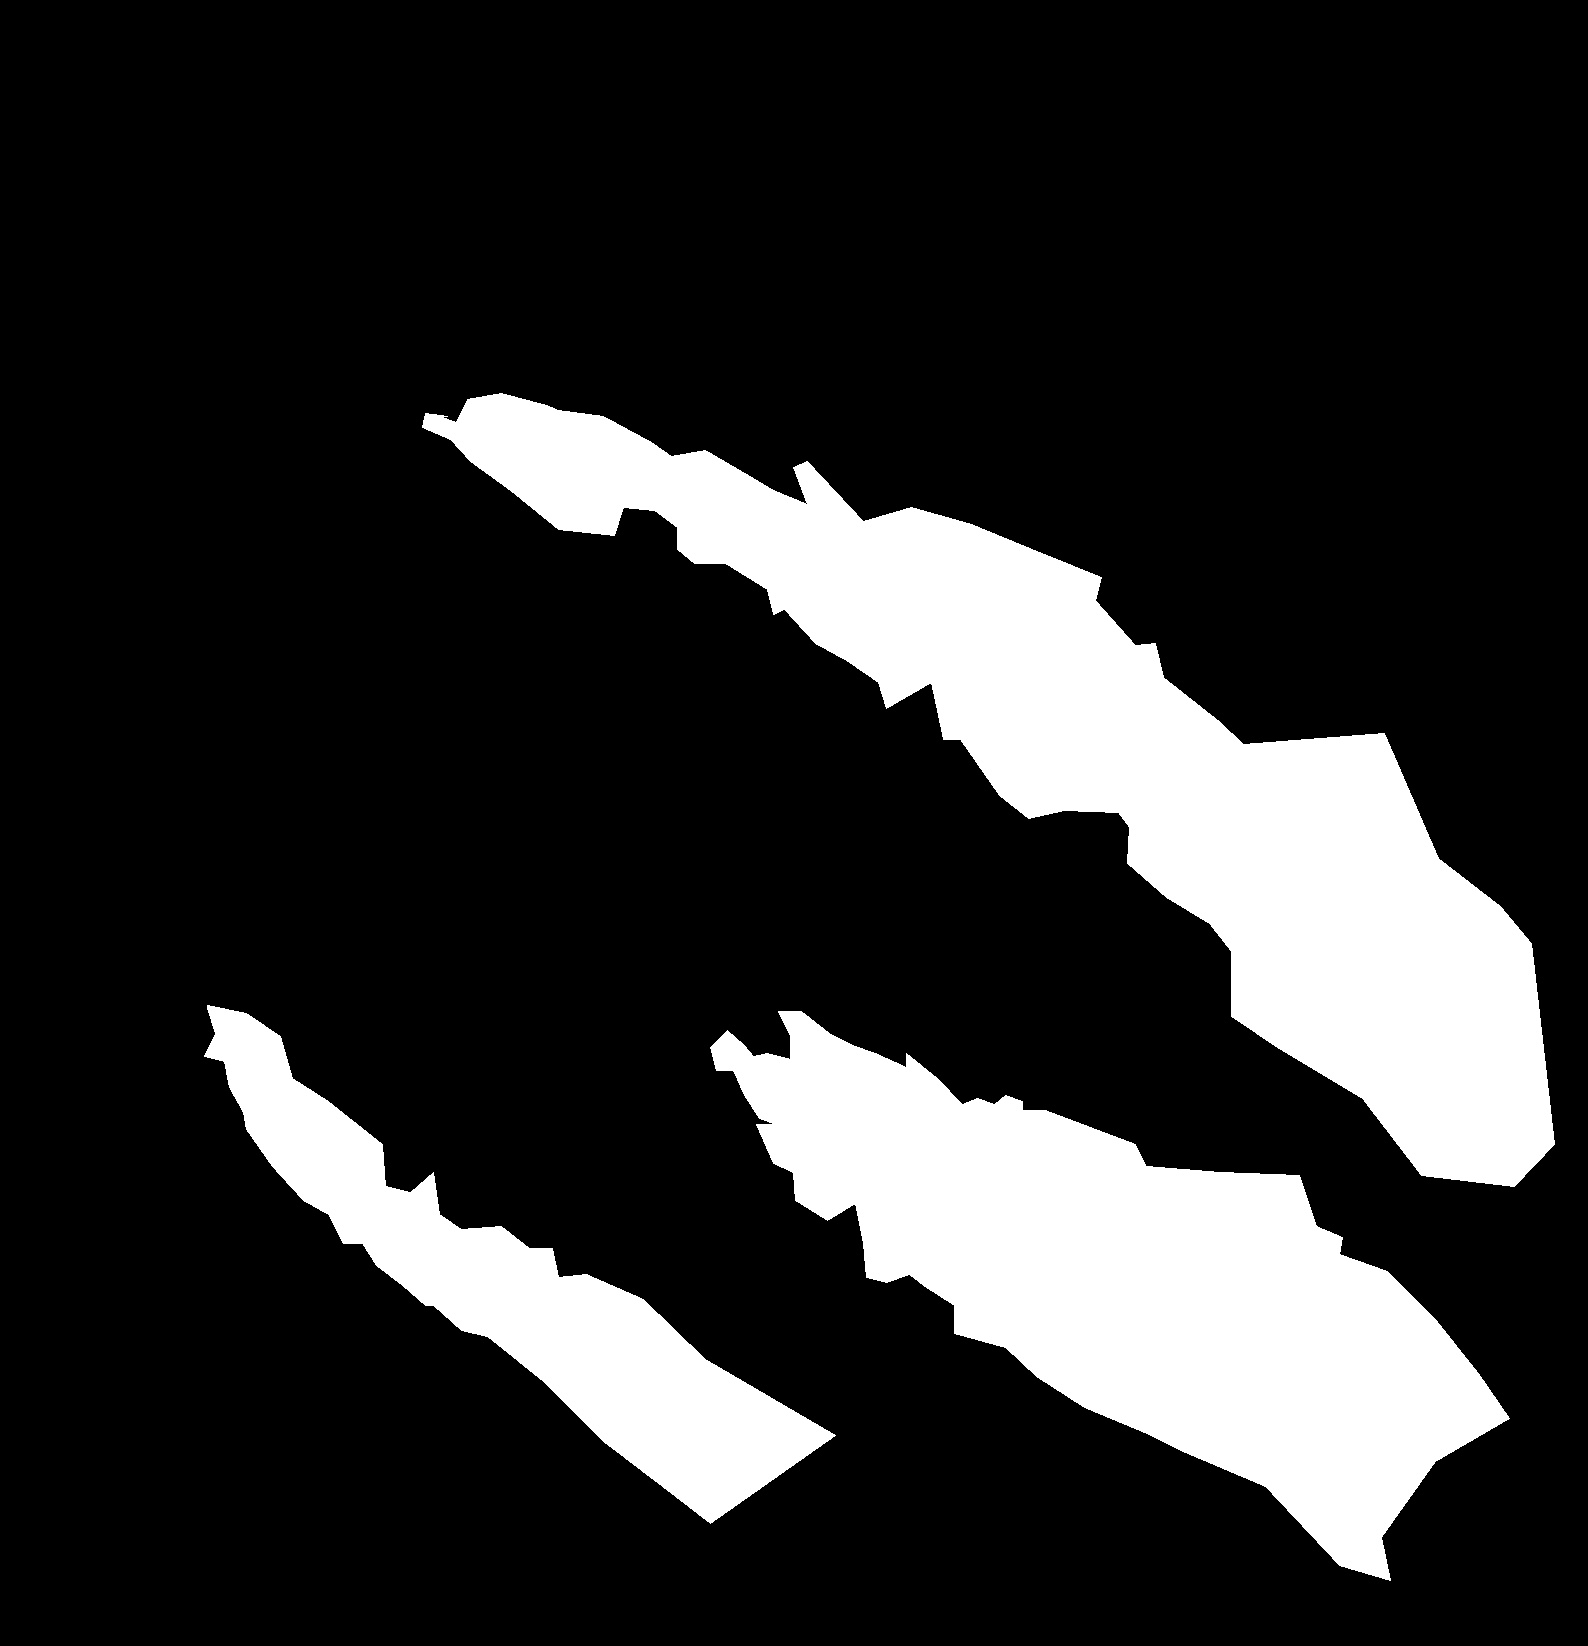Fire: (419, 392, 1046, 655), (726, 1007, 1030, 1243), (213, 1007, 420, 1264)
